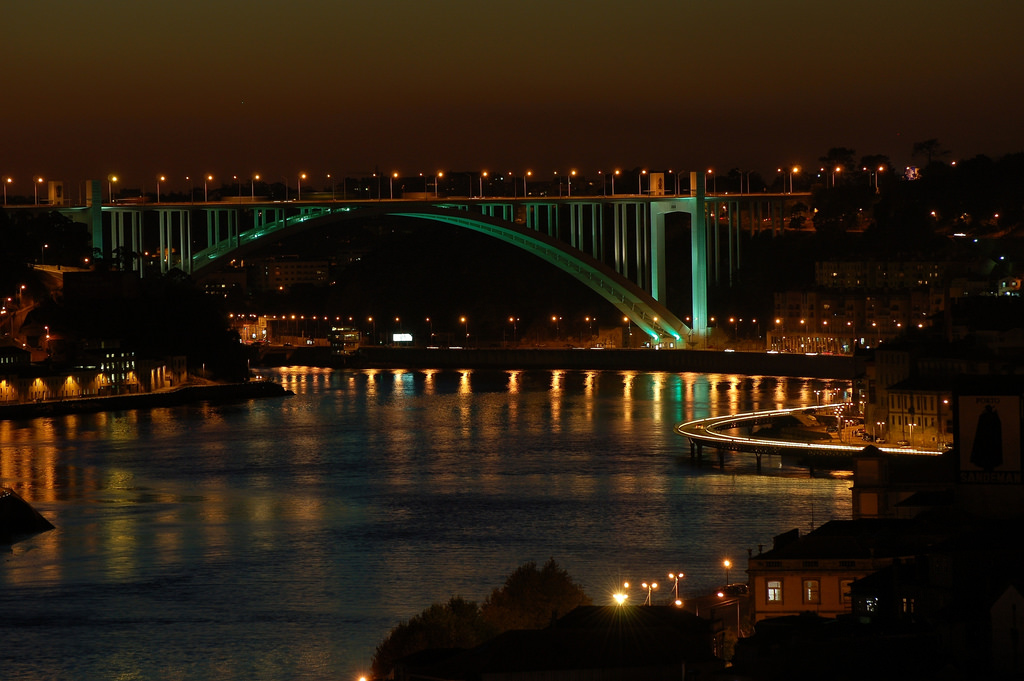arrabida: (0, 169, 807, 349)
